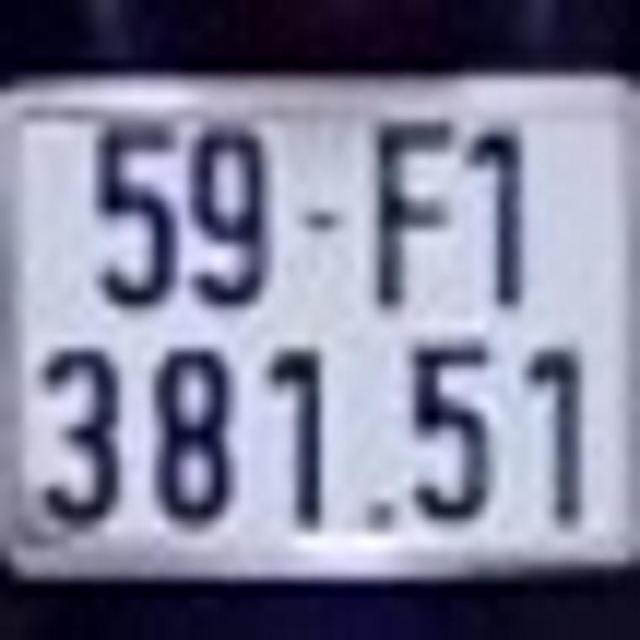1: (462, 108, 538, 310), (520, 331, 596, 527), (266, 332, 329, 534)
3: (40, 338, 122, 532)
5: (92, 104, 178, 311), (411, 328, 497, 530)
8: (154, 334, 234, 526)
9: (184, 113, 268, 306)
F: (374, 108, 454, 303)
